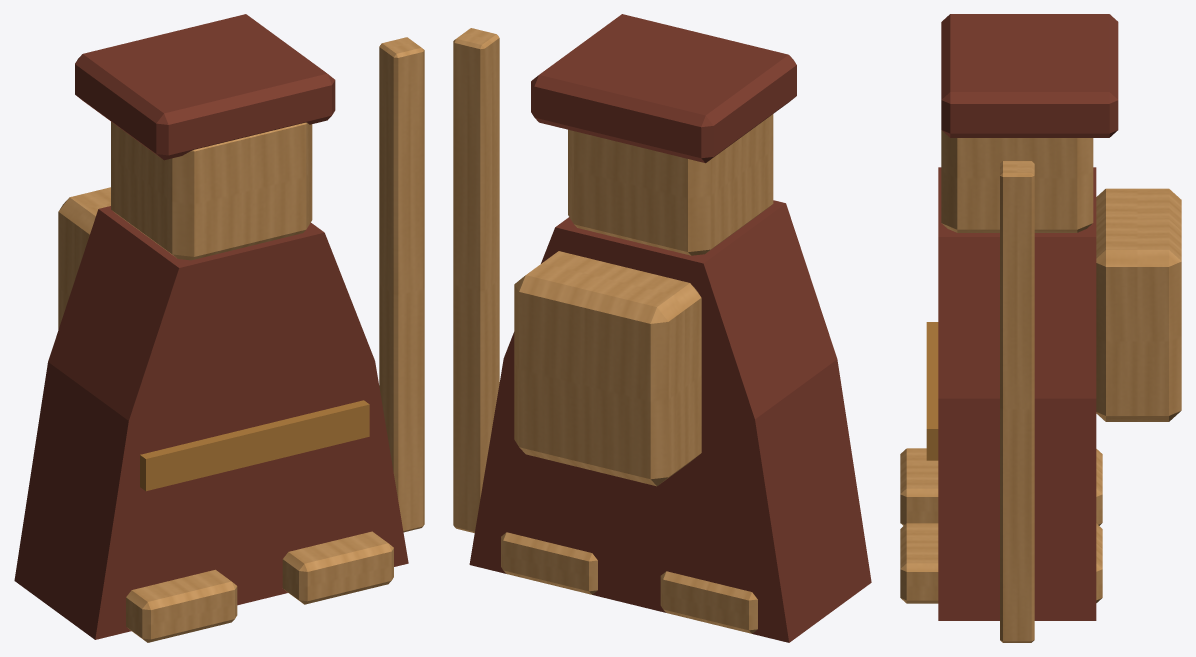
The model's file is adventurer.glb.
3 renders of one model, left to right at view 1: azimuth 30°, elevation 25°; view 2: azimuth 150°, elevation 25°; view 3: azimuth 270°, elevation 25°, orthographic. The views are drawn at different scales.
Visible parts, largest first — view 1: cloak, hood, head, staff, belt, foot-l, foot-r, pack; view 2: cloak, pack, hood, staff, head, foot-l, foot-r; view 3: cloak, hood, pack, staff, head, foot-r, foot-l, belt.
Boxes of the visible parts, bbox=[...] form: cloak: bbox=[14, 206, 408, 639]; hood: bbox=[75, 14, 335, 160]; head: bbox=[111, 122, 312, 260]; staff: bbox=[379, 37, 424, 532]; belt: bbox=[140, 400, 369, 491]; foot-l: bbox=[126, 569, 237, 642]; foot-r: bbox=[282, 531, 393, 604]; pack: bbox=[58, 187, 110, 329]; cloak: bbox=[469, 200, 871, 642]; pack: bbox=[514, 251, 701, 486]; hood: bbox=[531, 14, 796, 163]; staff: bbox=[453, 28, 499, 532]; head: bbox=[568, 114, 773, 255]; foot-l: bbox=[660, 571, 757, 633]; foot-r: bbox=[501, 532, 597, 594]; cloak: bbox=[938, 167, 1096, 620]; hood: bbox=[941, 14, 1118, 137]; pack: bbox=[1096, 188, 1181, 421]; staff: bbox=[1000, 161, 1034, 642]; head: bbox=[941, 130, 1093, 232]; foot-r: bbox=[900, 523, 1102, 603]; foot-l: bbox=[900, 448, 1102, 525]; belt: bbox=[926, 322, 938, 460].
Size of the model in its own units: 0.8658 by 1.15 by 0.5951.
Materials: 3 (1 with a texture image).
